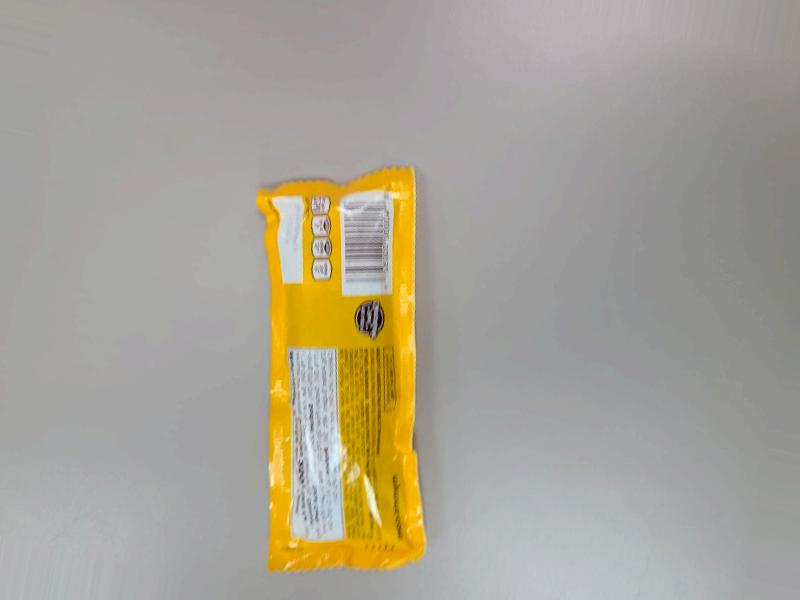m&m: (254, 165, 417, 543)
